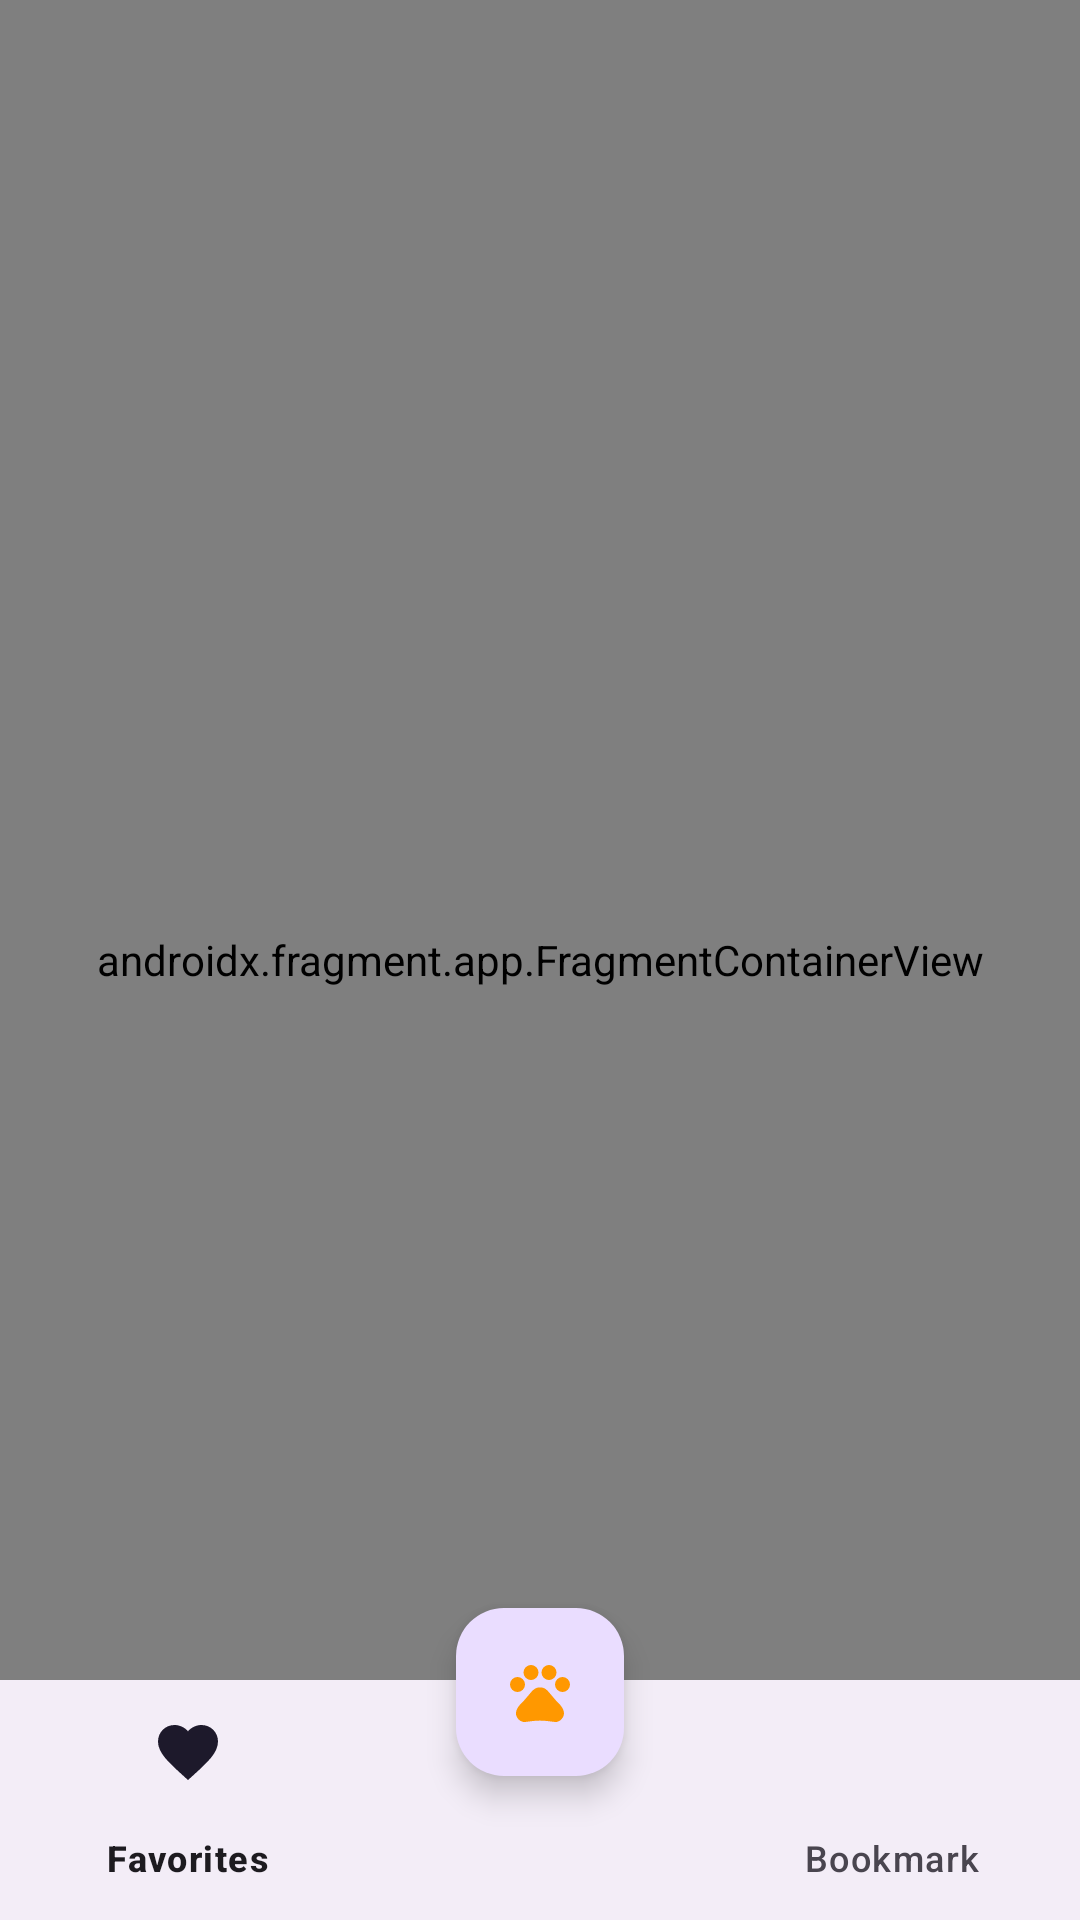

Where to tap for icons on this 1080x1920 app screen, as point (x, y):
Generate dog image: point (540, 1692)
